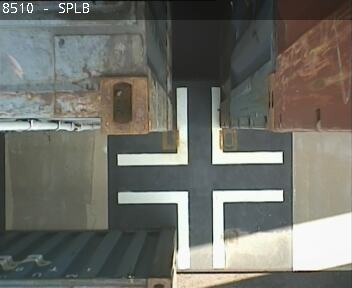groundmarker_1: (117, 87, 283, 166), (117, 190, 283, 268)
